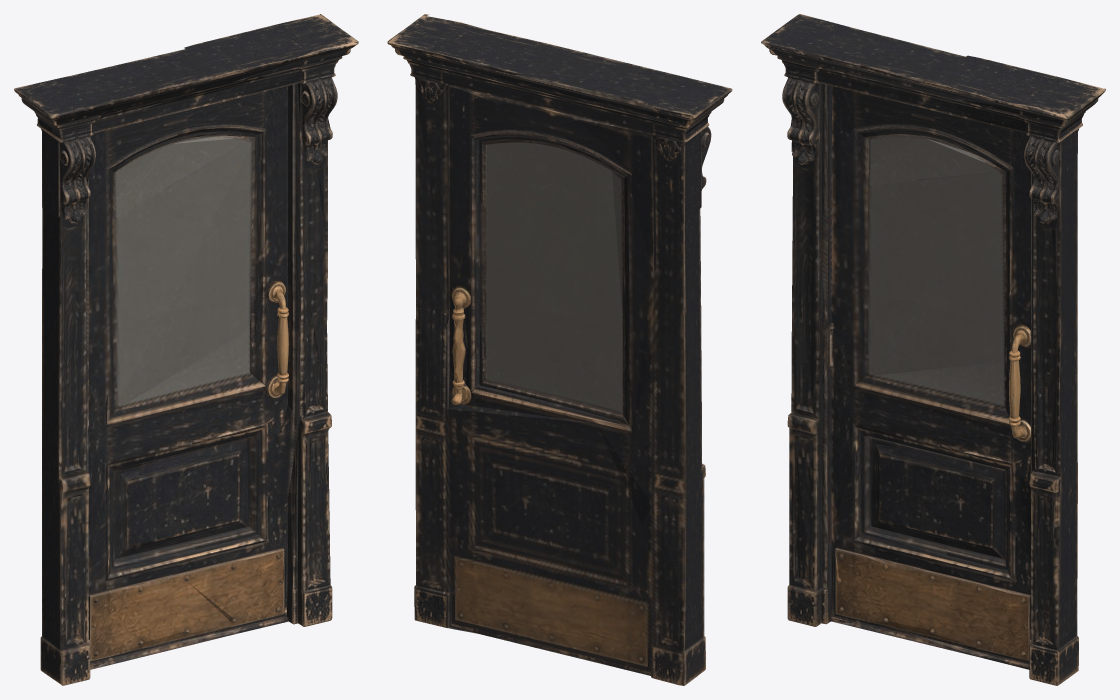
Rendered from store-door.glb.
3 renders of one model, left to right at view 1: azimuth 30°, elevation 25°; view 2: azimuth 150°, elevation 25°; view 3: azimuth 330°, elevation 25°, orthographic.
Visible parts, largest first — view 1: Mesh_0; view 2: Mesh_0; view 3: Mesh_0.
Boxes of the visible parts, bbox=[...] form: Mesh_0: bbox=[14, 14, 358, 685]; Mesh_0: bbox=[387, 14, 732, 685]; Mesh_0: bbox=[761, 14, 1105, 685].
Size of the model in its own units: 1.05 by 1.9 by 0.2276.
Materials: 1 (1 with a texture image).
